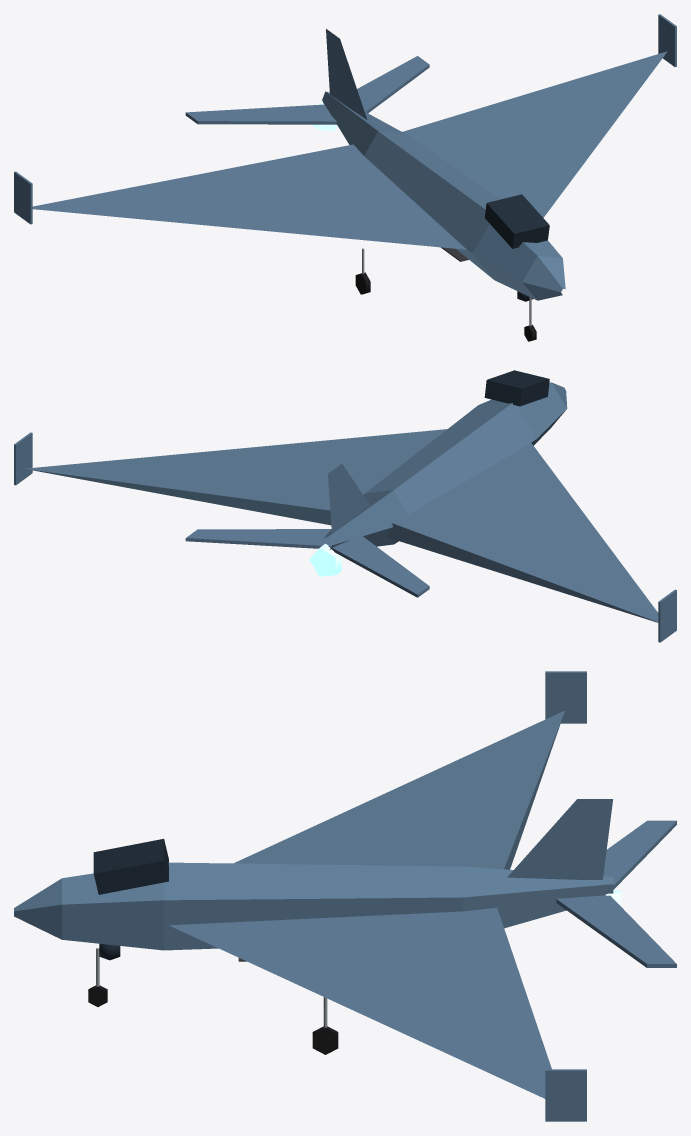
Rendered from veh_air_bomber_a10_lod1.glb.
3 renders of one model, top to bottom at view 1: azimuth 30°, elevation 25°; view 2: azimuth 150°, elevation 25°; view 3: azimuth 270°, elevation 25°, orthographic. The views are drawn at different scales.
Visible parts, largest first — view 1: body; view 2: body; view 3: body, gear_2.
Part boxes in pixels (box(x1,y1,x2,y2)): body: box(14, 14, 676, 301); body: box(14, 370, 676, 642); body: box(14, 671, 676, 1121); gear_2: box(312, 997, 338, 1054).
Bounding box in the file's own units: 25.38 × 6.15 × 17.81.
